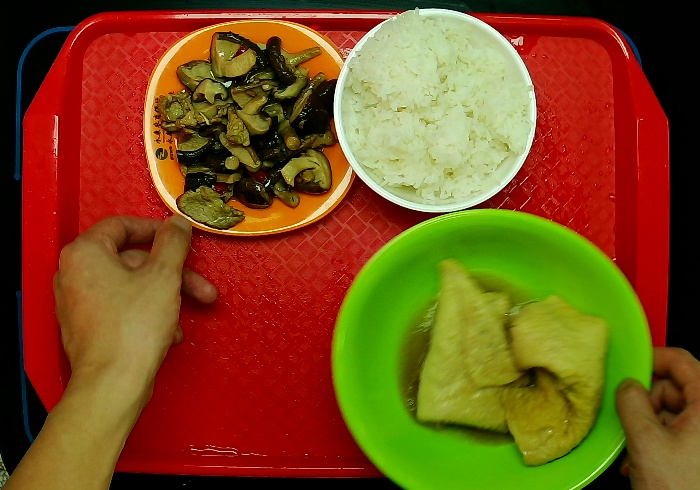YKMZ-Fan_Wan: (328, 1, 558, 231)
YKMZ-Ju_Se_Fang_Die: (135, 11, 365, 243)
YKMZ-Lv_Se_Tang_Wan: (325, 200, 666, 490)
